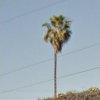Palm tree: (39, 9, 75, 91)
